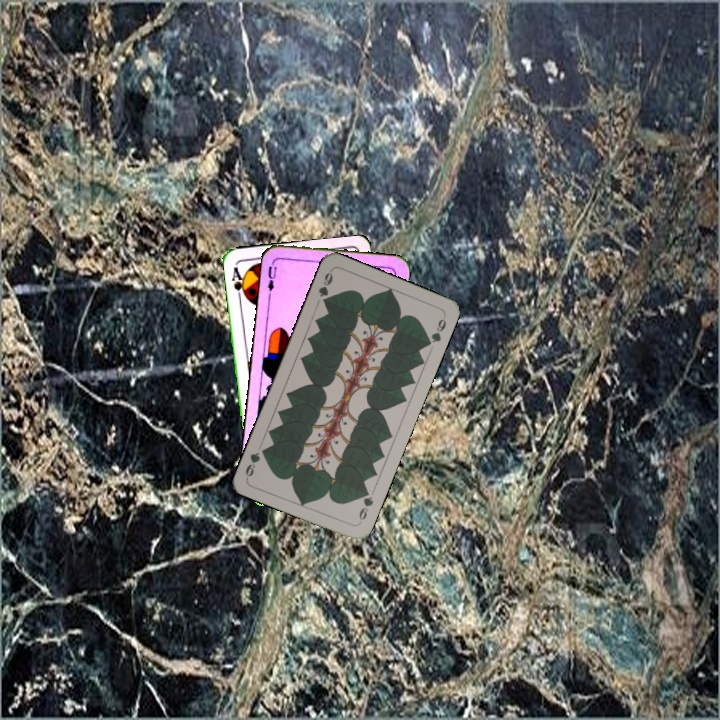EU: (263, 257, 283, 298)
G9: (314, 266, 335, 308), (355, 485, 376, 526)
SA: (228, 263, 249, 302)
